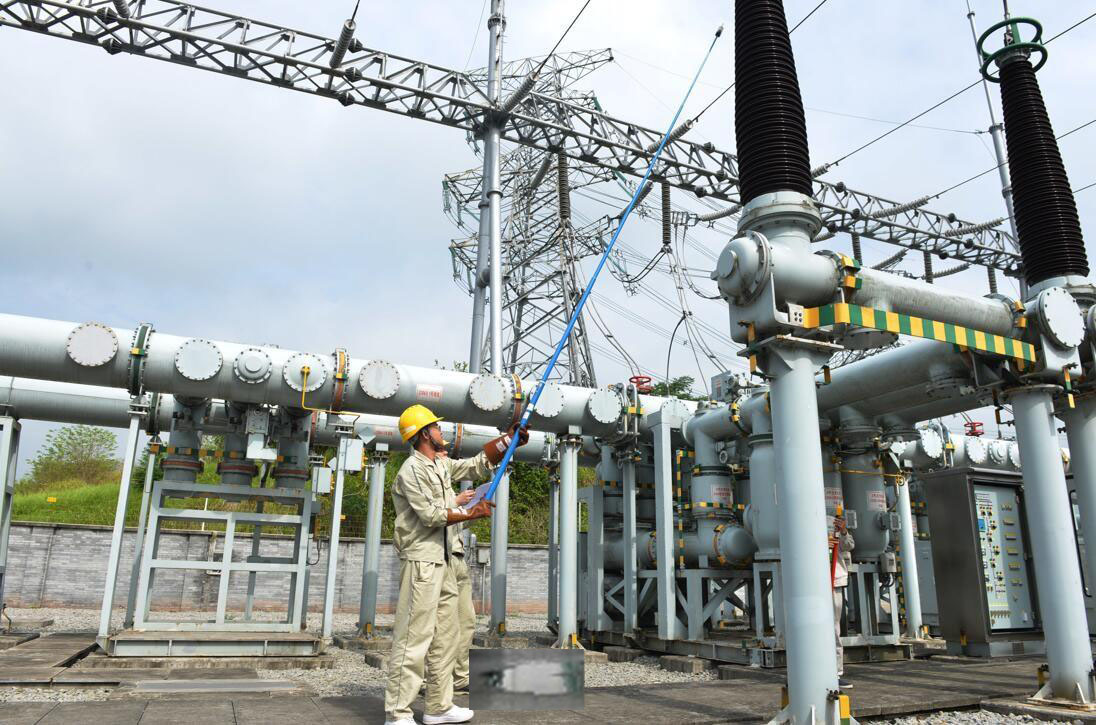oil: (475, 648, 584, 711)
